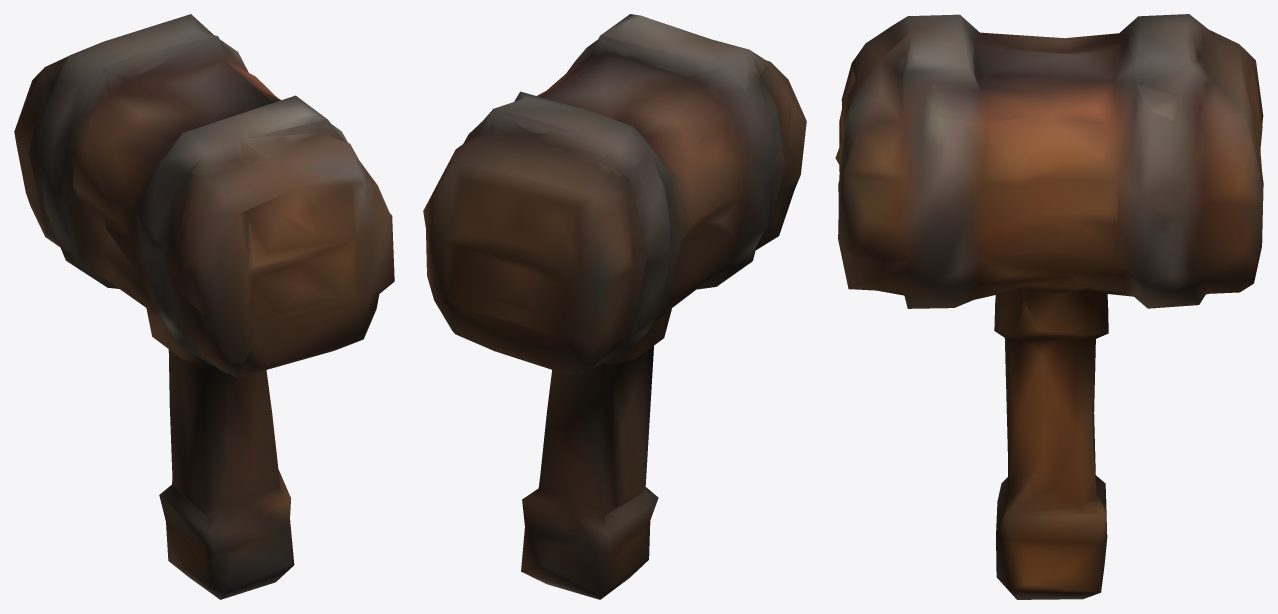
File: build_hammer.glb
3 views of the same model, side by side, from view 1: azimuth 30°, elevation 25°; view 2: azimuth 150°, elevation 25°; view 3: azimuth 270°, elevation 25° (orthographic). The views are drawn at different scales.
Visible parts, largest first — view 1: model; view 2: model; view 3: model.
Boxes of the visible parts, left/top/right/bottom form: model: left=14, top=14, right=394, bottom=599; model: left=423, top=14, right=806, bottom=599; model: left=835, top=14, right=1263, bottom=599.
Size of the model in its own units: 0.325 by 0.749 by 0.5386.
Materials: 1 (1 with a texture image).
